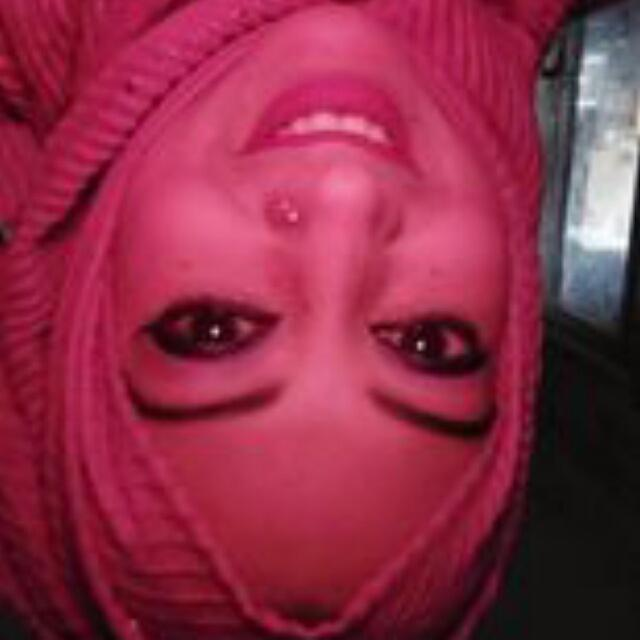happy: (109, 50, 521, 473)
